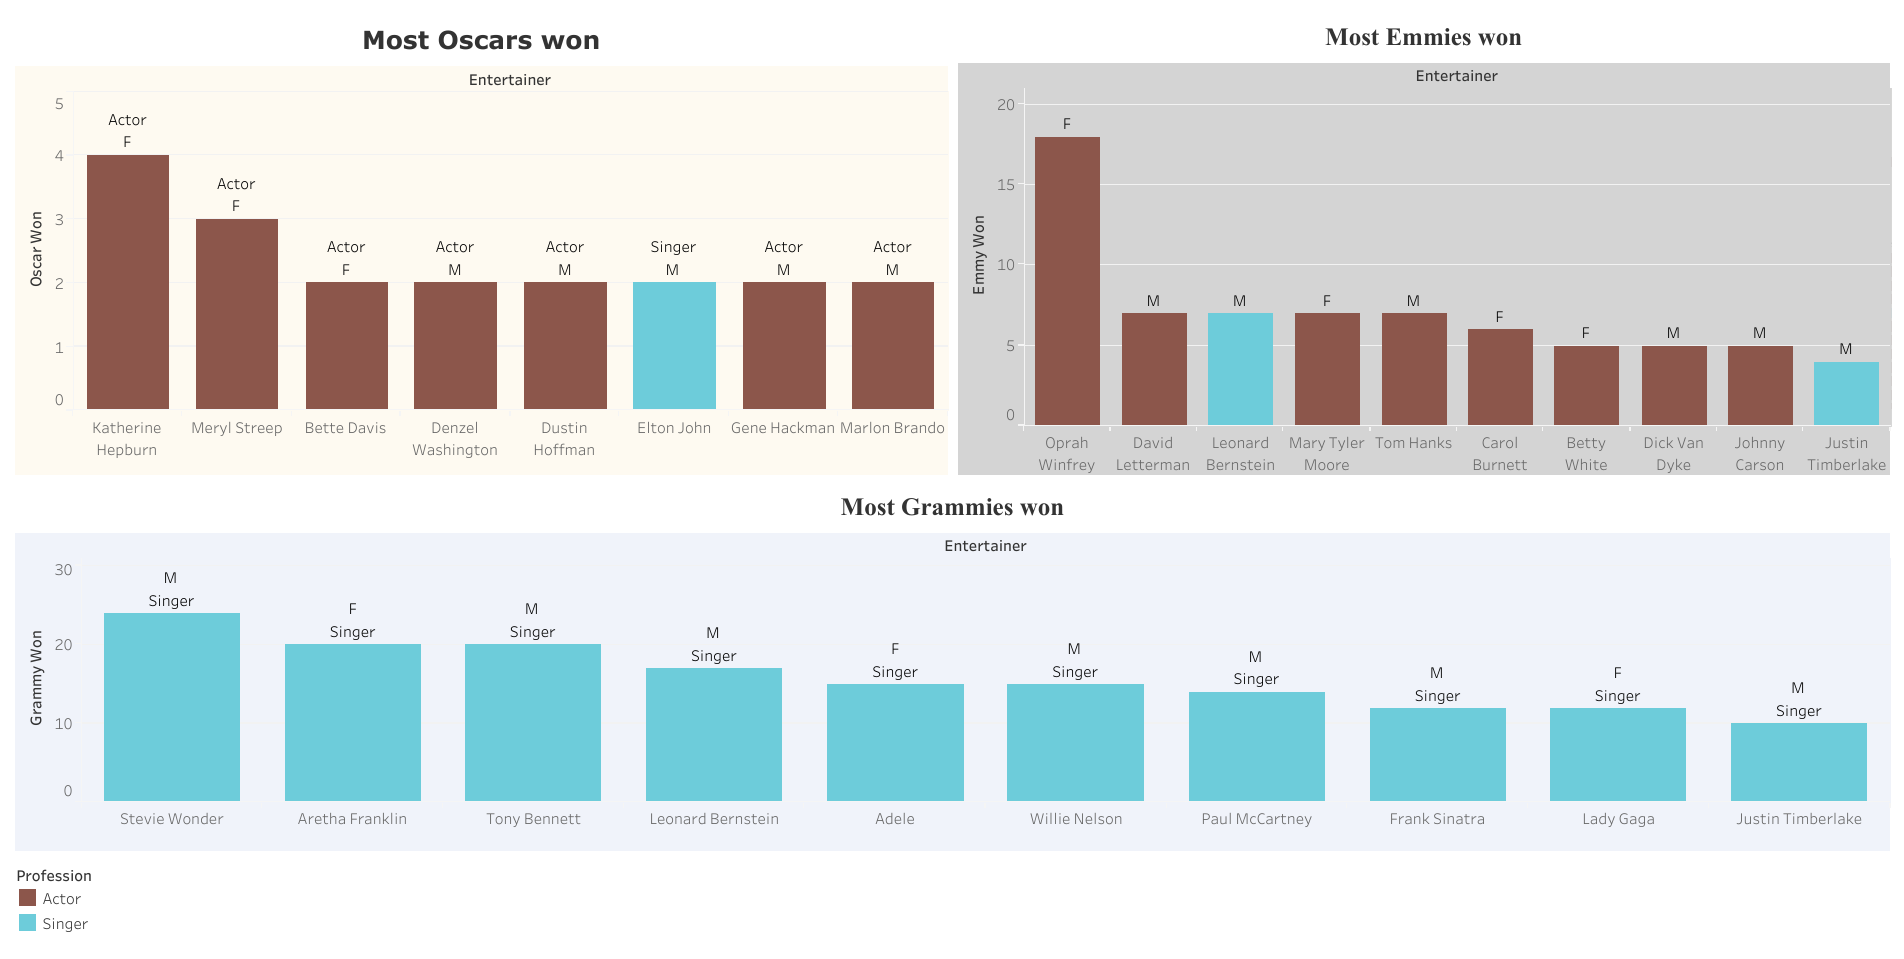

This screenshot's page, from the dashboard's own definition file:
{"tool":"tableau","page":{"name":"Dashboard 2","canvas":[1524,768],"ordinal":1},"visuals":[{"type":"worksheet","title":"Most Oscars won","mark":"Automatic","rows":["Oscar Won"],"cols":["Entertainer"],"box":[8,8,754,376]},{"type":"worksheet","title":"Most Emmies won","mark":"Automatic","rows":["Emmy Won"],"cols":["Entertainer"],"box":[762,8,754,376]},{"type":"worksheet","title":"Most Grammies won","mark":"Automatic","rows":["Grammy Won"],"cols":["Entertainer"],"box":[8,384,1508,301]},{"type":"legend","title":"Most Oscars won","param":"[federated.1c0q6ed10wwgzy16u1l2m0x3vn1v].[none:Profession:nk]","box":[8,685,1508,75]}]}

Visuals, with their boxes in screenshot pixels (x1, y1, x2, y2), scaled from the page's 1524x768 canvas onto the 1904x959 screenshot:
"Most Oscars won" worksheet: detection(10, 10, 952, 480)
"Most Emmies won" worksheet: detection(952, 10, 1894, 480)
"Most Grammies won" worksheet: detection(10, 480, 1894, 855)
"Most Oscars won" legend: detection(10, 855, 1894, 949)
